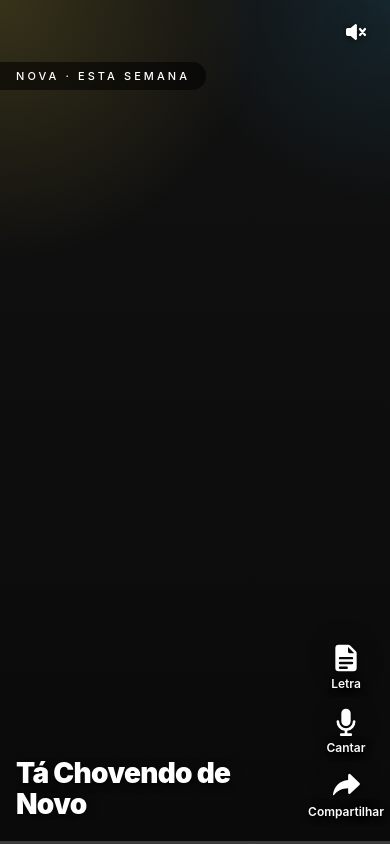
Scenario: FeedOverlay (étape 4) › when copying fails: no error toast, a small panel with the link selected and ready to copy
The image size is (390, 844).
Click the button "Compartilhar" at (346, 794), box [308,768,384,820]
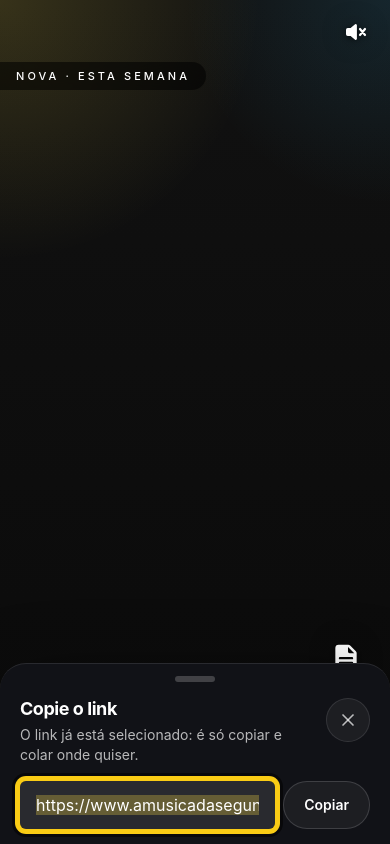
expect the field named "Link da música" holds "https://www.amusicadasegunda.com/musica/ta-chovendo-de-novo/": met, box [20,780,275,828]
expect the button "Copiar" is shown: met, box [283,780,370,828]
